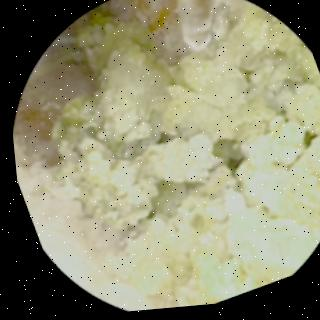stone: (42, 6, 320, 310)
